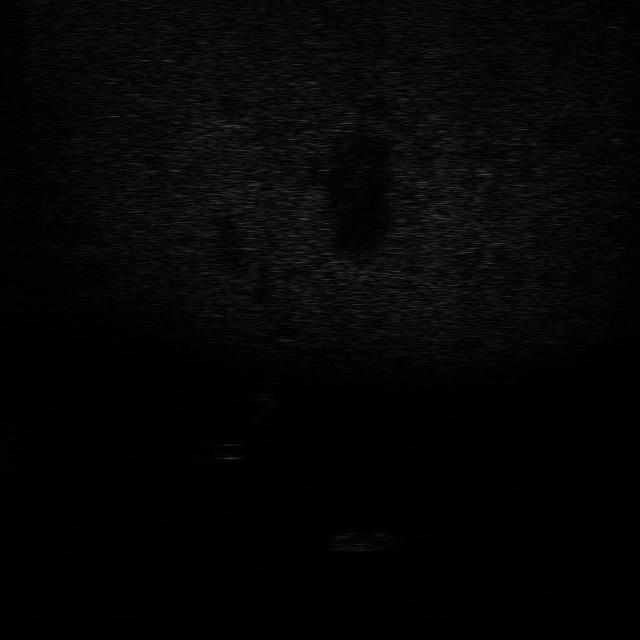ball: (202, 437, 254, 465)
circle cage: (326, 520, 402, 556)
human body: (246, 372, 282, 424)
